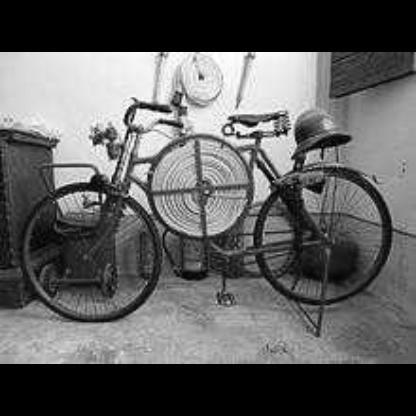Bicycle: (0, 82, 404, 340)
